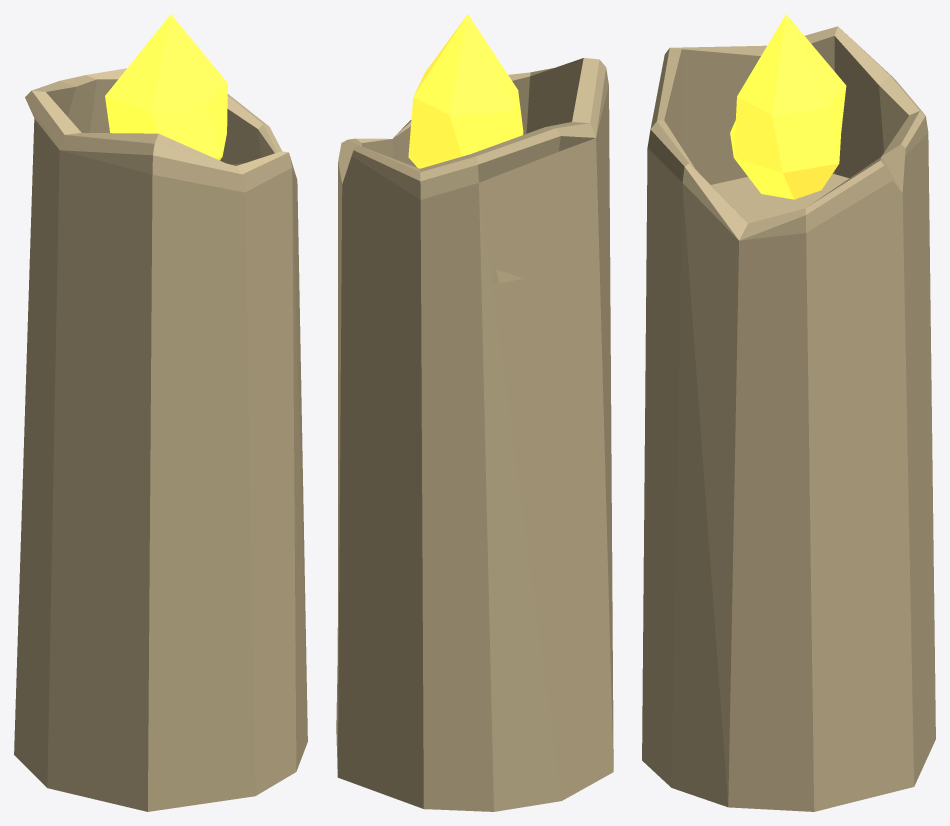
File: candle_fixed scale.glb
3 views of the same model, side by side, from view 1: azimuth 30°, elevation 25°; view 2: azimuth 150°, elevation 25°; view 3: azimuth 270°, elevation 25° (orthographic).
Visible parts, largest first — view 1: Candle.007; view 2: Candle.007; view 3: Candle.007.
Part boxes in pixels (bbox=[...]): Candle.007: bbox=[14, 14, 307, 811]; Candle.007: bbox=[336, 14, 613, 811]; Candle.007: bbox=[642, 14, 935, 811].
Bounding box in the file's own units: 0.1124 × 0.3123 × 0.1124.
